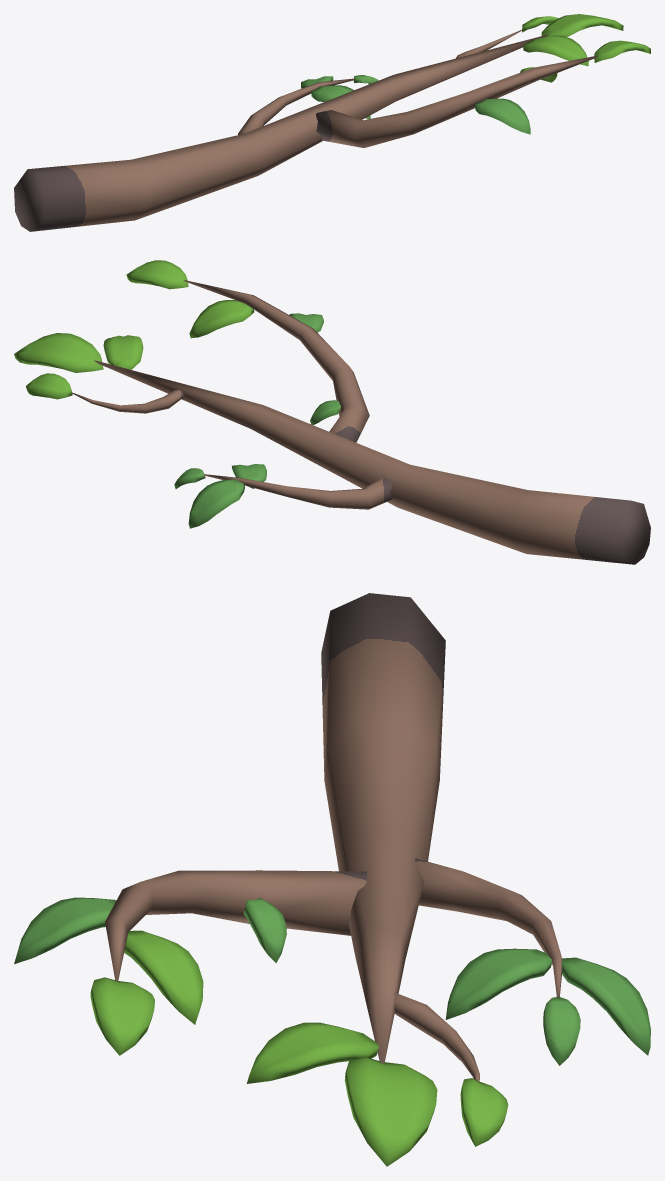
File: rama.fbx
3 views of the same model, one above another, from view 1: azimuth 30°, elevation 25°; view 2: azimuth 150°, elevation 25°; view 3: azimuth 270°, elevation 25° (orthographic). The views are drawn at different scales.
Parts seen in each view (by area): view 1: rama; view 2: rama; view 3: rama.
Part boxes in pixels (x1=…): rama: x1=14, y1=14, x2=650, y2=231; rama: x1=14, y1=260, x2=650, y2=564; rama: x1=14, y1=593, x2=650, y2=1166.
Bounding box in the file's own units: 158 × 29.97 × 73.55.
